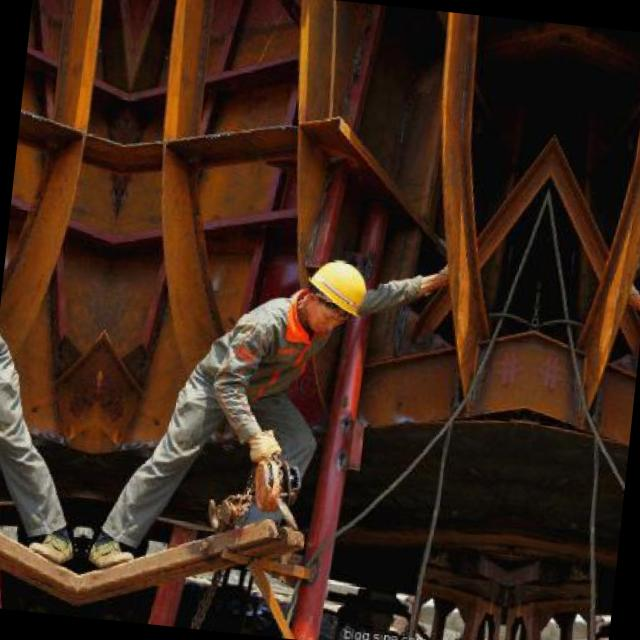helmet: (289, 246, 371, 346)
